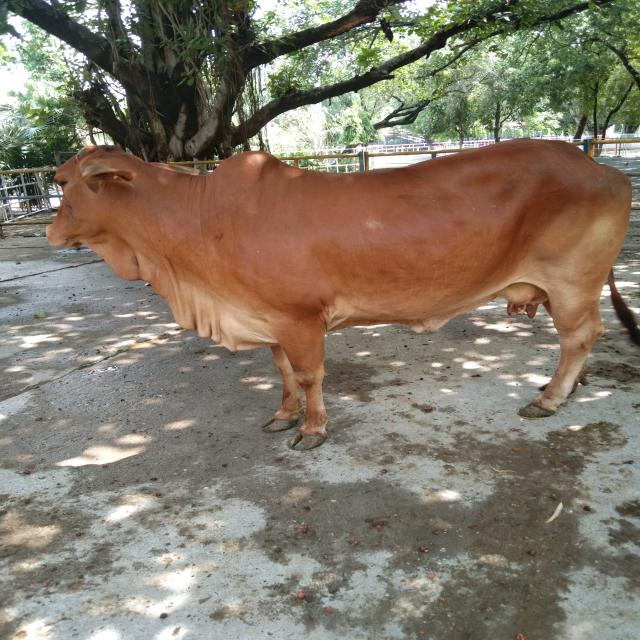Hoof: (289, 428, 328, 450), (261, 416, 298, 433), (518, 402, 555, 419)
